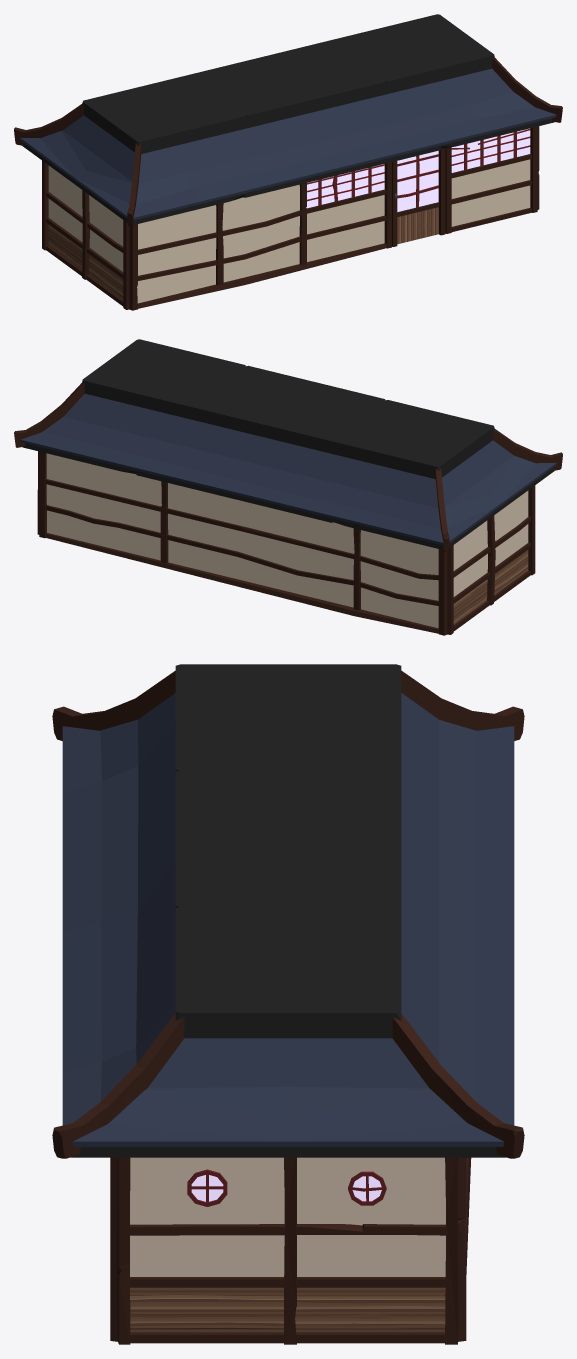
File: Building_2 Asia.fbx
3 renders of one model, top to bottom at view 1: azimuth 30°, elevation 25°; view 2: azimuth 150°, elevation 25°; view 3: azimuth 270°, elevation 25°, orthographic. The views are drawn at different scales.
Visible parts, largest first — view 1: Building_2; view 2: Building_2; view 3: Building_2.
Part boxes in pixels (bbox=[...]): Building_2: bbox=[14, 14, 562, 310]; Building_2: bbox=[14, 339, 562, 635]; Building_2: bbox=[52, 664, 524, 1344].
Size of the model in its own units: 9.36 by 3.11 by 4.4.
